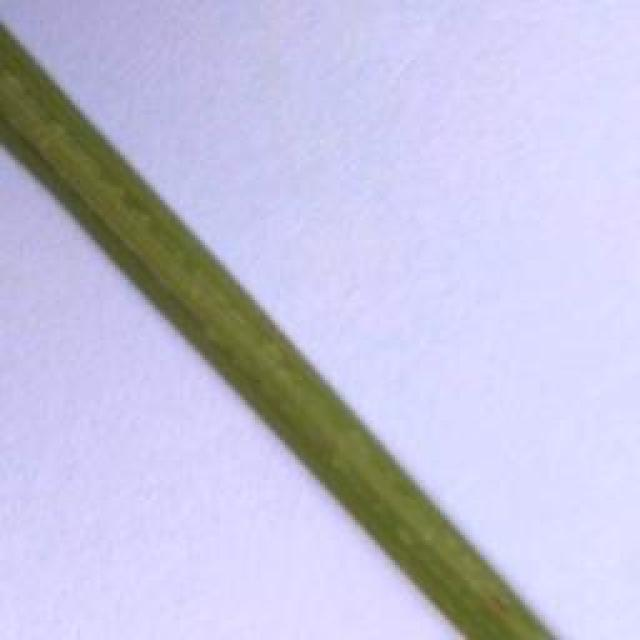Healthy-Plant: (0, 18, 552, 640)
